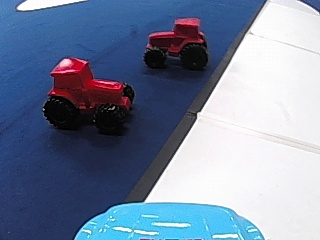tractor: (41, 54, 131, 131), (141, 16, 211, 70)
